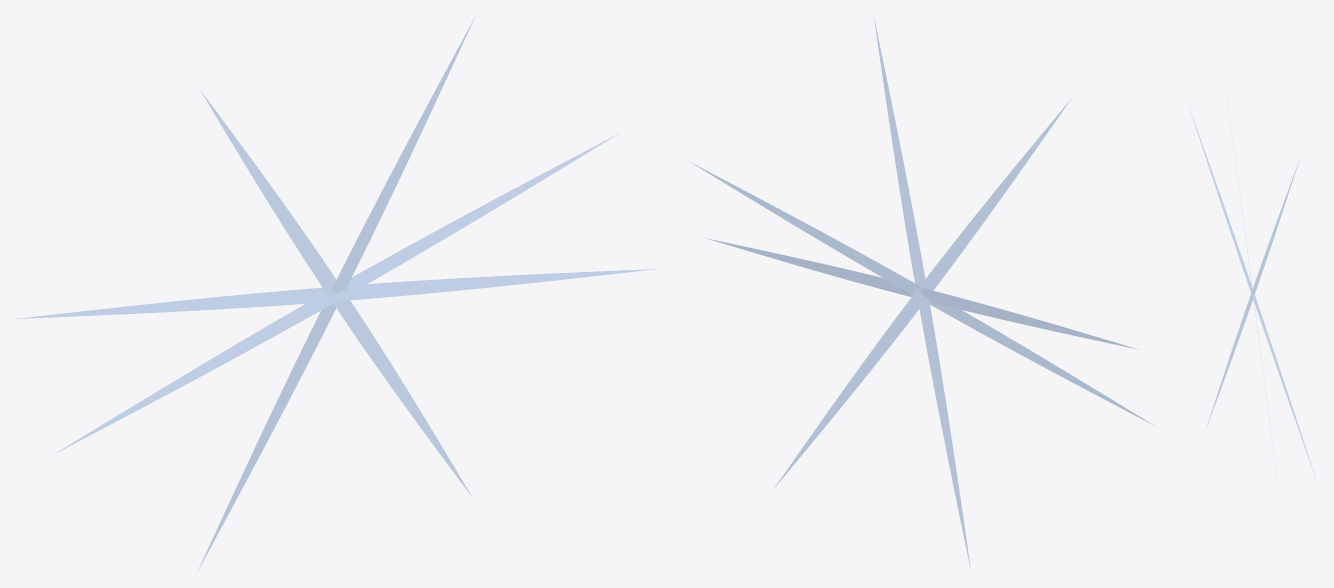
File: black-rain-rift.glb
The picture shows the model from 3 angles, left to right: view 1: azimuth 30°, elevation 25°; view 2: azimuth 150°, elevation 25°; view 3: azimuth 270°, elevation 25°; orthographic projection. The views are drawn at different scales.
Visible parts, largest first — view 1: 黒雨・自作3D・rift; view 2: 黒雨・自作3D・rift; view 3: 黒雨・自作3D・rift.
Part boxes in pixels (<box>): 黒雨・自作3D・rift: <box>16,16,656,571</box>; 黒雨・自作3D・rift: <box>689,17,1155,570</box>; 黒雨・自作3D・rift: <box>1188,69,1317,518</box>.
Bounding box in the file's own units: 2.06 × 1.92 × 0.4918.
